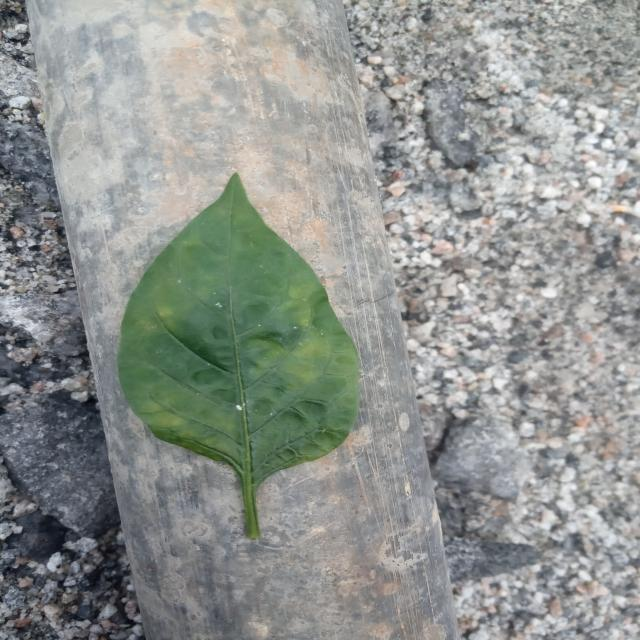ganike: (118, 174, 360, 539)
